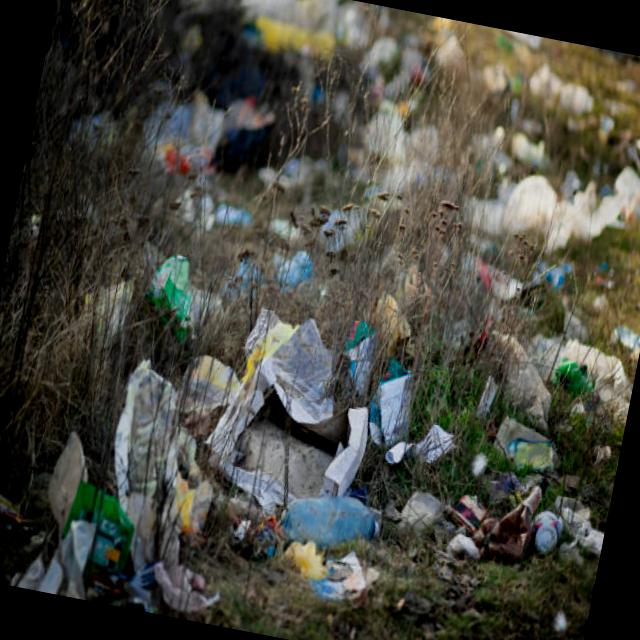garbage: (9, 308, 336, 608), (221, 321, 456, 604), (60, 432, 88, 509), (68, 435, 71, 444), (70, 440, 73, 447)
